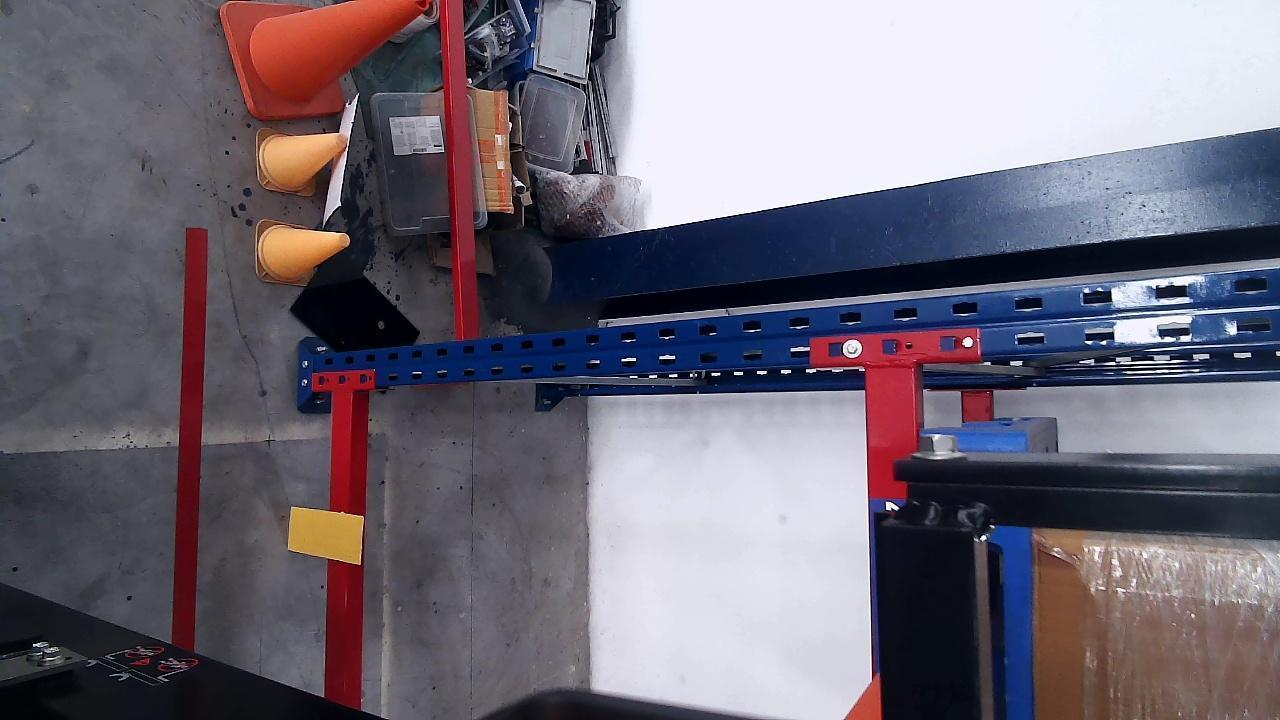red_line: (170, 230, 207, 651)
